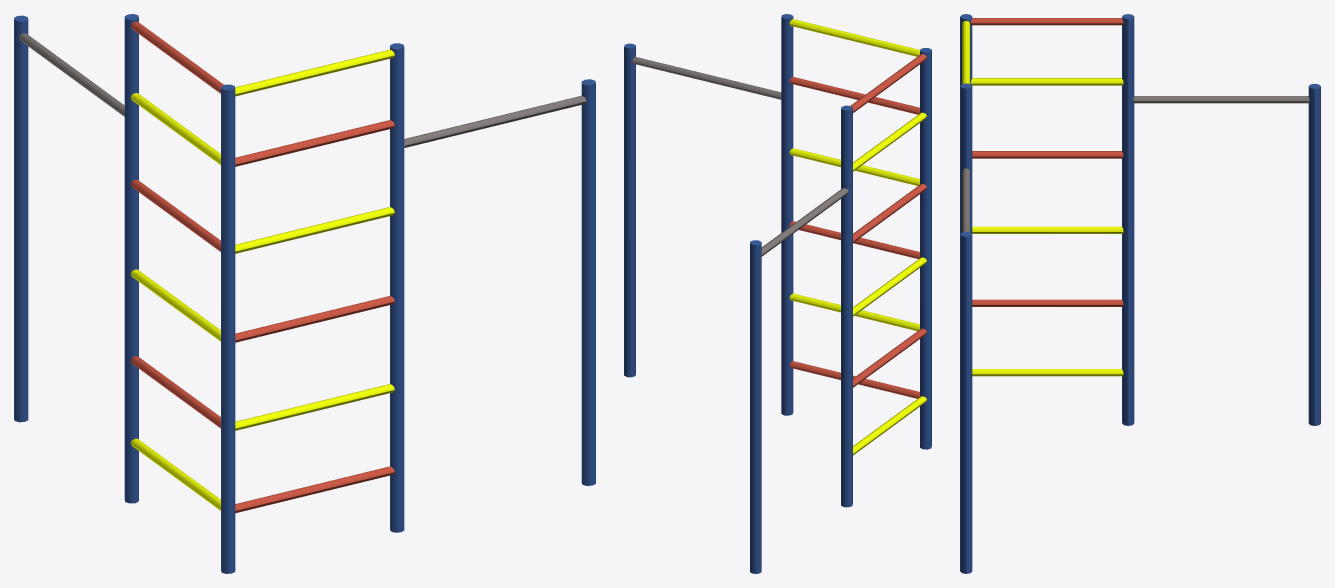
File: SM_Crossbar_Stairs_01.fbx
3 views of the same model, side by side, from view 1: azimuth 30°, elevation 25°; view 2: azimuth 150°, elevation 25°; view 3: azimuth 270°, elevation 25° (orthographic). The views are drawn at different scales.
Visible parts, largest first — view 1: SM_Crossbar_Stairs_01; view 2: SM_Crossbar_Stairs_01; view 3: SM_Crossbar_Stairs_01.
Part boxes in pixels (x1=…): SM_Crossbar_Stairs_01: x1=14, y1=14, x2=595, y2=573; SM_Crossbar_Stairs_01: x1=624, y1=14, x2=931, y2=573; SM_Crossbar_Stairs_01: x1=960, y1=14, x2=1320, y2=573.
Bounding box in the file's own units: 195 × 241 × 194.
